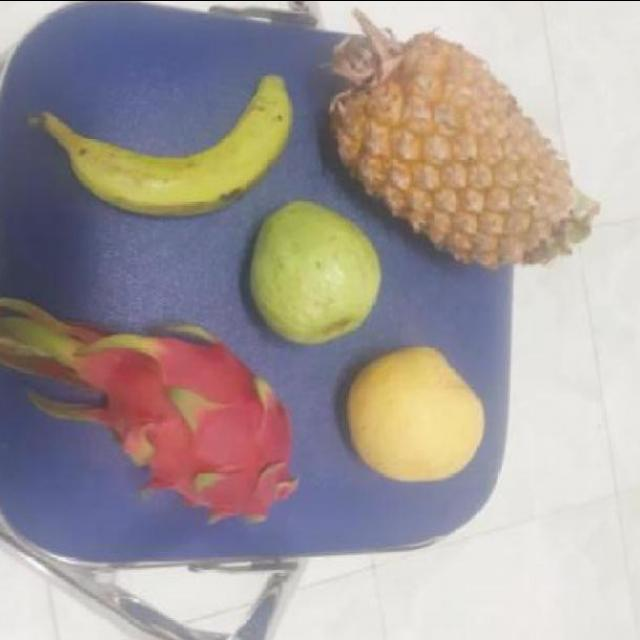banana: (64, 76, 286, 222)
dragon fruit: (77, 318, 291, 534)
guava: (252, 202, 378, 350)
pear: (346, 342, 490, 488)
pineapple: (322, 27, 584, 274)
